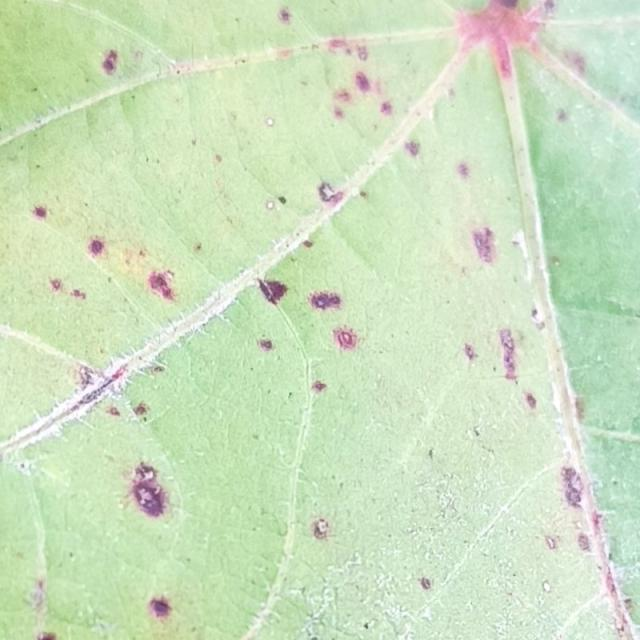Bacterial_Blight: (73, 356, 148, 417), (126, 463, 170, 519), (143, 593, 184, 640), (314, 175, 355, 220), (99, 44, 147, 80), (330, 83, 367, 122), (325, 37, 372, 64), (481, 0, 527, 25), (498, 328, 519, 381), (146, 270, 178, 303), (559, 465, 583, 507), (471, 226, 497, 264), (258, 279, 288, 304), (167, 57, 206, 76), (602, 568, 622, 605), (332, 326, 360, 352), (310, 290, 342, 311), (28, 580, 48, 613), (133, 462, 159, 487), (310, 517, 333, 541), (564, 50, 586, 75), (86, 234, 108, 258), (148, 597, 171, 619), (75, 366, 96, 389), (101, 49, 119, 75), (354, 71, 372, 92), (540, 1, 558, 19), (334, 89, 351, 106), (328, 38, 348, 52), (531, 306, 545, 326), (494, 0, 521, 10), (574, 396, 586, 418), (499, 56, 512, 76), (405, 140, 420, 157), (278, 6, 292, 24), (577, 533, 591, 551), (464, 343, 477, 362), (32, 205, 48, 220), (524, 392, 537, 410), (544, 535, 558, 550), (457, 162, 470, 178), (257, 338, 273, 351), (623, 597, 635, 614), (311, 380, 326, 393), (276, 48, 293, 59), (50, 278, 63, 292), (556, 108, 568, 123), (149, 364, 165, 375), (380, 101, 392, 115), (71, 289, 86, 300), (333, 106, 344, 119), (420, 577, 431, 590), (37, 634, 56, 640), (302, 240, 313, 248), (473, 426, 481, 437), (278, 196, 287, 205), (214, 154, 222, 164), (194, 243, 202, 252), (317, 299, 325, 307)
Cotton: (0, 0, 614, 639)
